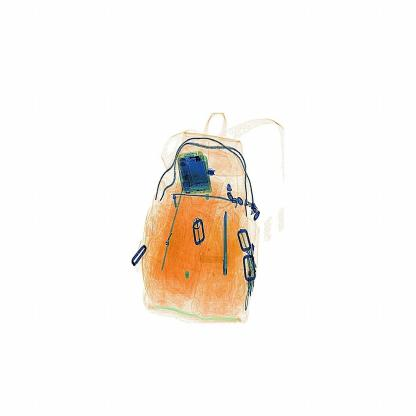pliers: (217, 204, 240, 278)
